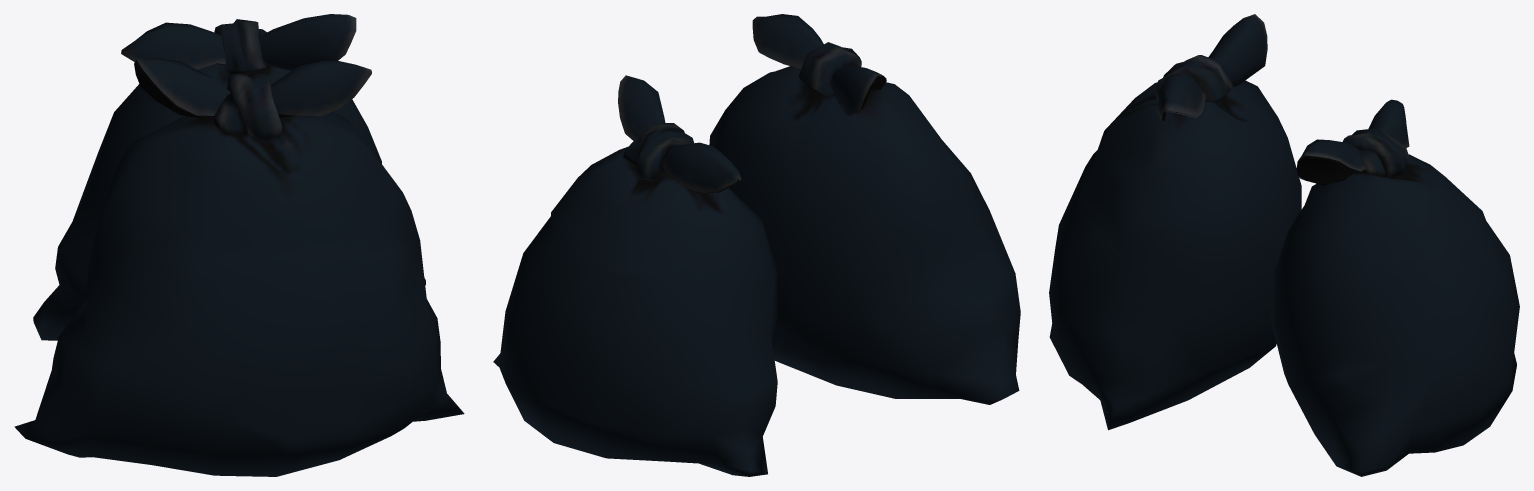
The model's file is animal_crossing_new_horizons_trash_bags.glb.
The picture shows the model from 3 angles, left to right: view 1: azimuth 30°, elevation 25°; view 2: azimuth 150°, elevation 25°; view 3: azimuth 270°, elevation 25°; orthographic projection. The views are drawn at different scales.
Visible parts, largest first — view 1: Object_4; view 2: Object_4; view 3: Object_4.
Boxes of the visible parts, x1=… form: Object_4: x1=14, y1=14, x2=464, y2=476; Object_4: x1=493, y1=14, x2=1020, y2=476; Object_4: x1=1049, y1=14, x2=1519, y2=476.
Size of the model in its own units: 9.61 by 6.98 by 9.2.
Materials: 1 (1 with a texture image).
